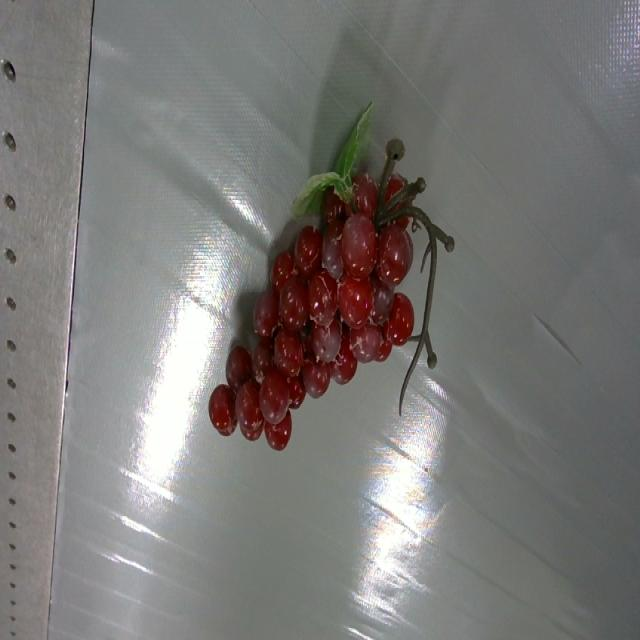grape: (209, 104, 454, 449)
